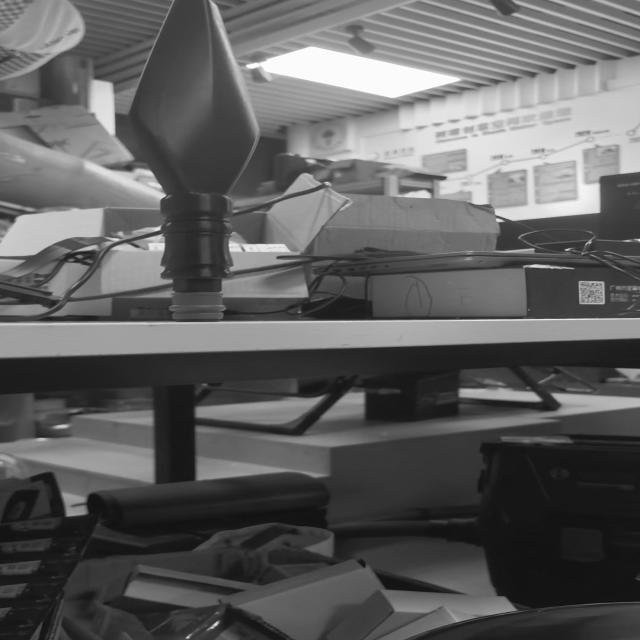base: (162, 287, 231, 325)
